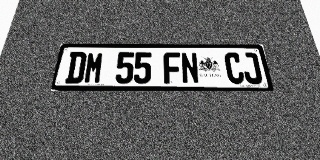5: (115, 52, 134, 84), (133, 52, 151, 84)
C: (224, 53, 245, 84)
D: (64, 52, 87, 84)
F: (163, 52, 181, 84)
J: (240, 53, 263, 84)
M: (83, 52, 104, 84)
N: (180, 52, 199, 84)
